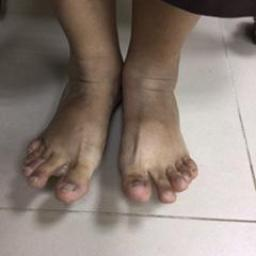Front View -Both Feet-: (15, 24, 202, 218)
